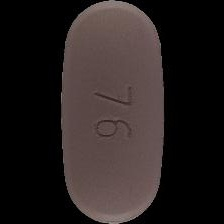65862-573: (0, 0, 224, 224)
